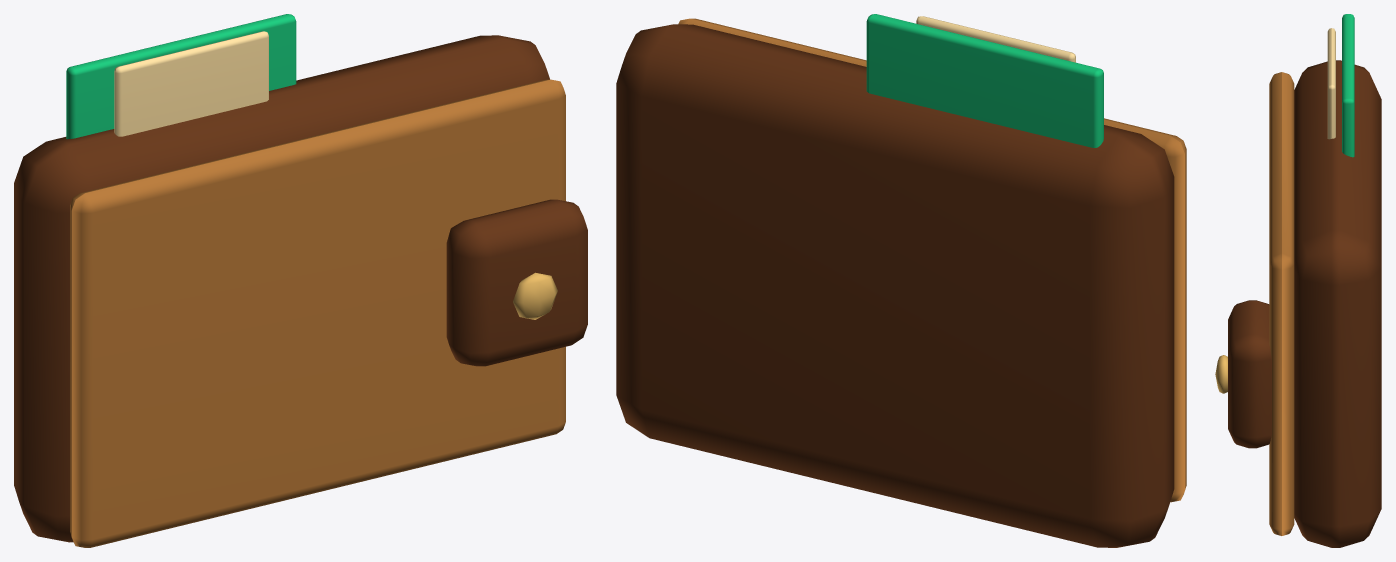
Rendered from 18_Wallet.glb.
3 renders of one model, left to right at view 1: azimuth 30°, elevation 25°; view 2: azimuth 150°, elevation 25°; view 3: azimuth 270°, elevation 25°, orthographic. The views are drawn at different scales.
Parts seen in each view (by area): view 1: 18_Wallet_EXPORT; view 2: 18_Wallet_EXPORT; view 3: 18_Wallet_EXPORT.
Boxes of the visible parts, box(x1,y1,x2,y2) form: 18_Wallet_EXPORT: box(14, 14, 587, 547); 18_Wallet_EXPORT: box(616, 14, 1186, 547); 18_Wallet_EXPORT: box(1215, 14, 1381, 547).
Size of the model in its own units: 0.232 by 0.196 by 0.08.
